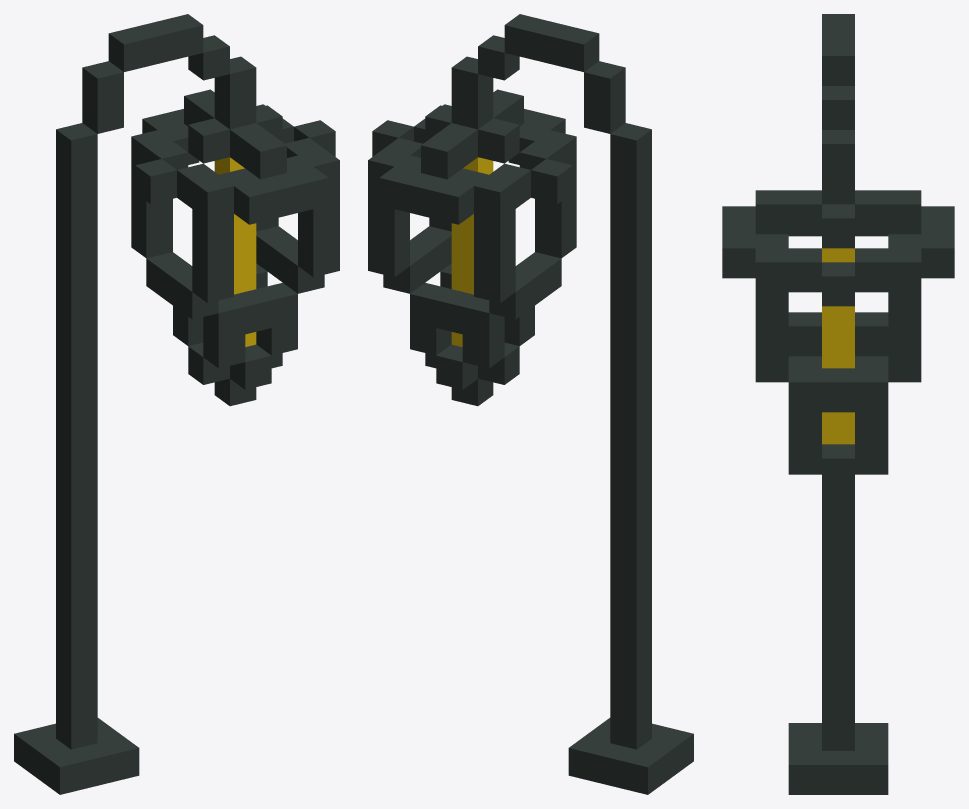
The model's file is Light_sources.glb.
The picture shows the model from 3 angles, left to right: view 1: azimuth 30°, elevation 25°; view 2: azimuth 150°, elevation 25°; view 3: azimuth 270°, elevation 25°; orthographic projection. The views are drawn at different scales.
Parts seen in each view (by area): view 1: Light_sources; view 2: Light_sources; view 3: Light_sources.
Boxes of the visible parts, bbox=[...] form: Light_sources: bbox=[14, 14, 339, 794]; Light_sources: bbox=[368, 14, 693, 794]; Light_sources: bbox=[722, 14, 954, 794].
Size of the model in its own units: 1.03 by 2.44 by 0.658.
Materials: 1 (1 with a texture image).
